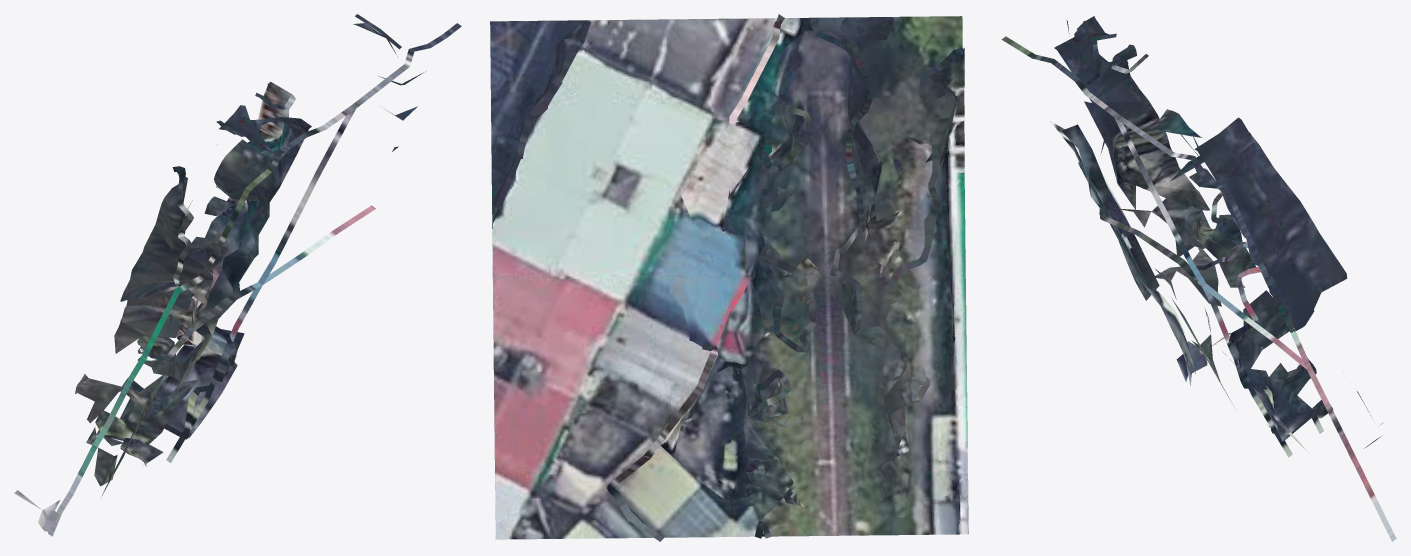
3 renders of one model, left to right at view 1: azimuth 30°, elevation 25°; view 2: azimuth 150°, elevation 25°; view 3: azimuth 270°, elevation 25°, orthographic. The views are drawn at different scales.
Bounding box in the file's own units: 40.29 × 37.57 × 31.83.
2 materials, 2 textured.
